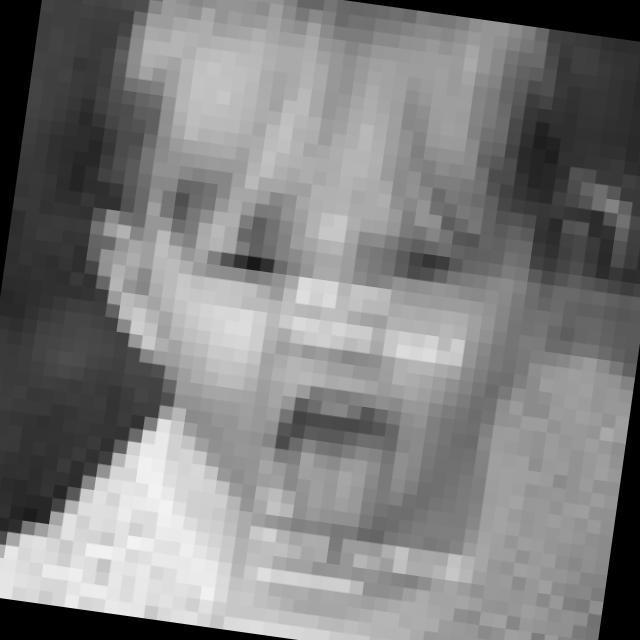angry: (157, 193, 484, 496)
